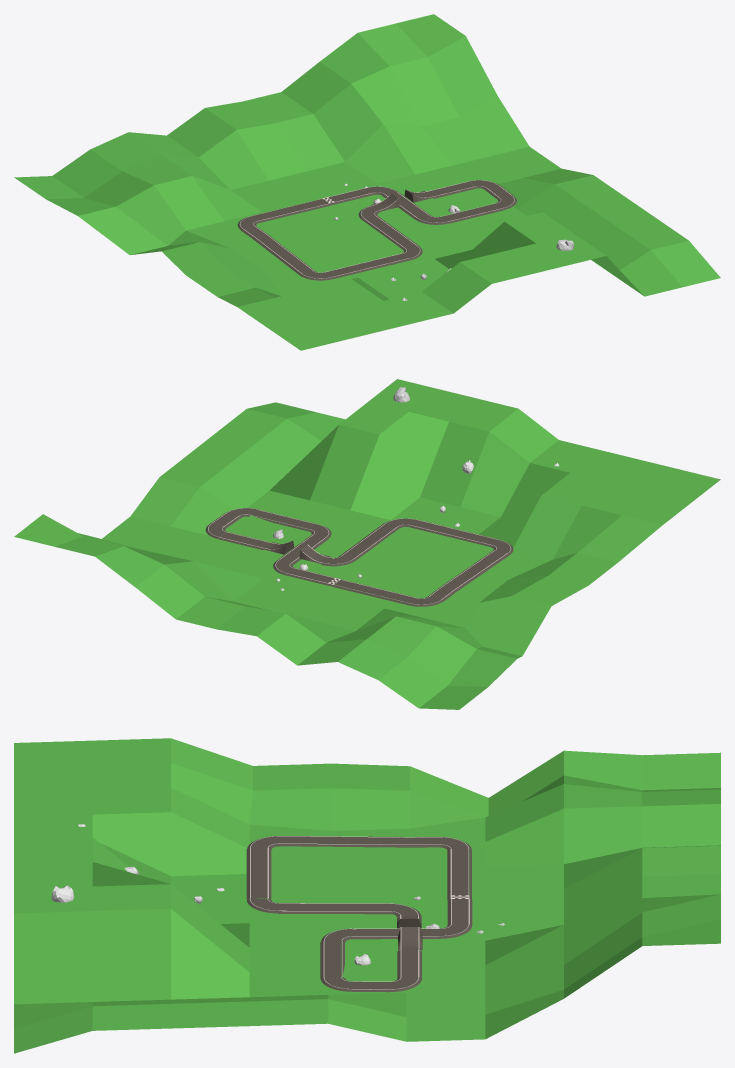
The model's file is road.fbx.
The picture shows the model from 3 angles, top to bottom: view 1: azimuth 30°, elevation 25°; view 2: azimuth 150°, elevation 25°; view 3: azimuth 270°, elevation 25°; orthographic projection. The views are drawn at different scales.
Parts seen in each view (by area): view 1: Plane; view 2: Plane, Cube; view 3: Plane, Cube.
Boxes of the visible parts, x1,y1,x2,y2 form: Plane: (14,14,720,350); Plane: (14,379,720,709); Cube: (273,387,559,590); Plane: (14,738,720,1053); Cube: (51,824,504,965).
Size of the model in its own units: 7218 by 1273 by 7584.
1 material, 1 textured.
